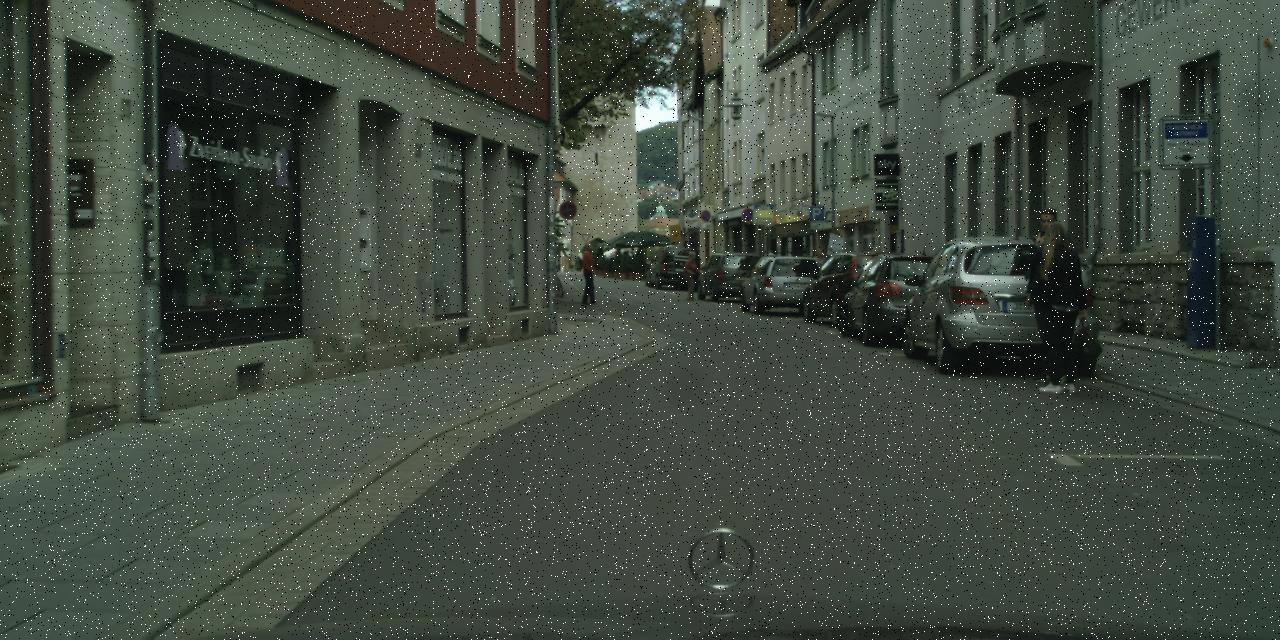ped: (1014, 207, 1086, 382), (1025, 222, 1095, 394), (576, 242, 600, 304), (807, 249, 828, 302), (682, 250, 701, 300)
